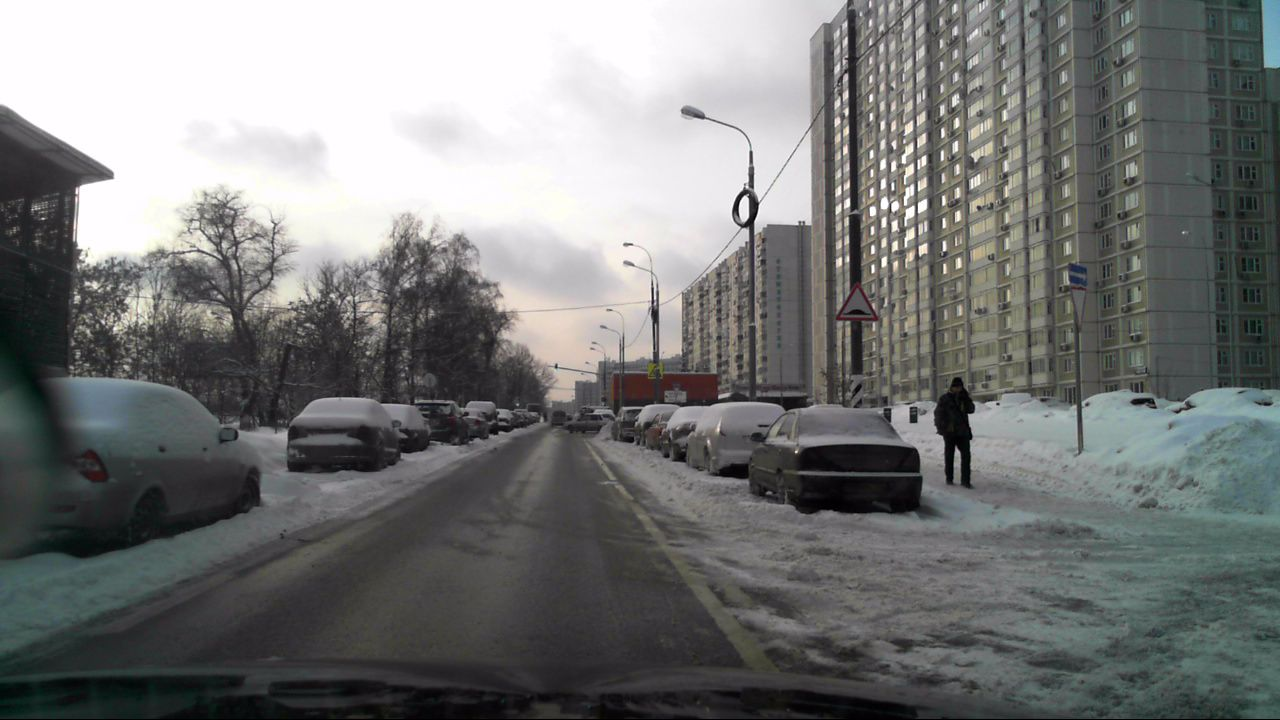One-Way Traffic: (1068, 263, 1088, 285)
